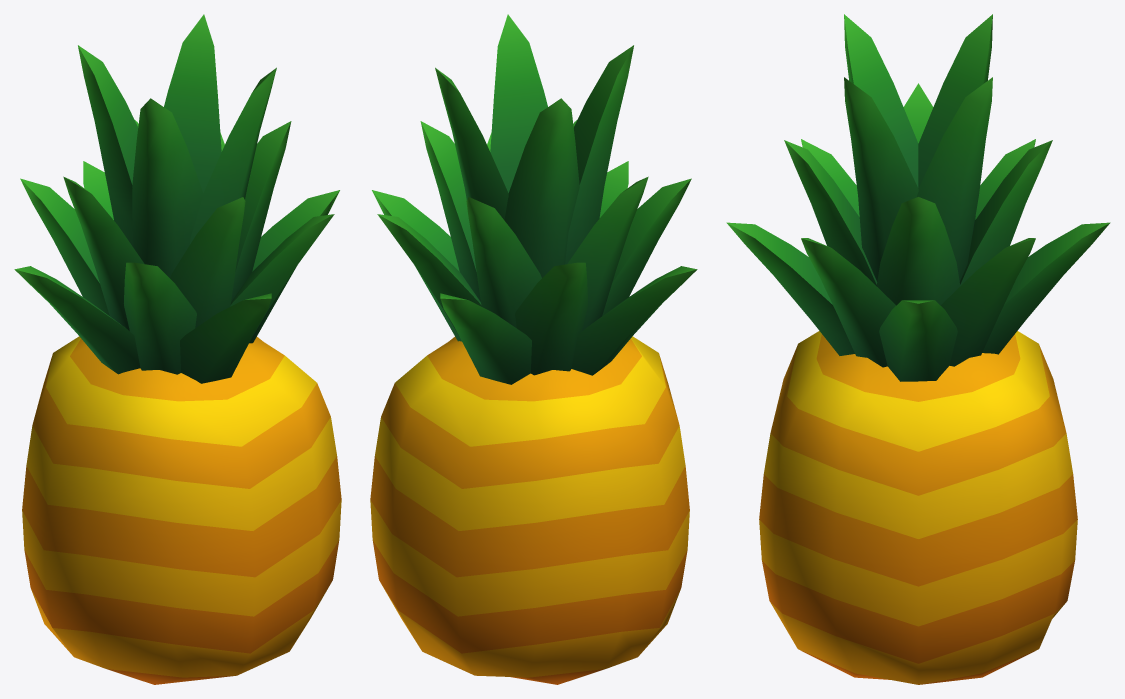
The model's file is Pineapple_02.glb.
3 renders of one model, left to right at view 1: azimuth 30°, elevation 25°; view 2: azimuth 150°, elevation 25°; view 3: azimuth 270°, elevation 25°, orthographic. The views are drawn at different scales.
Parts seen in each view (by area): view 1: Pineapple_02; view 2: Pineapple_02; view 3: Pineapple_02.
Boxes of the visible parts, x1,y1,x2,y2 form: Pineapple_02: (14, 14, 341, 684); Pineapple_02: (370, 14, 697, 684); Pineapple_02: (726, 14, 1110, 684).
Size of the model in its own units: 0.3188 by 0.5587 by 0.3188.
Materials: 1 (1 with a texture image).
